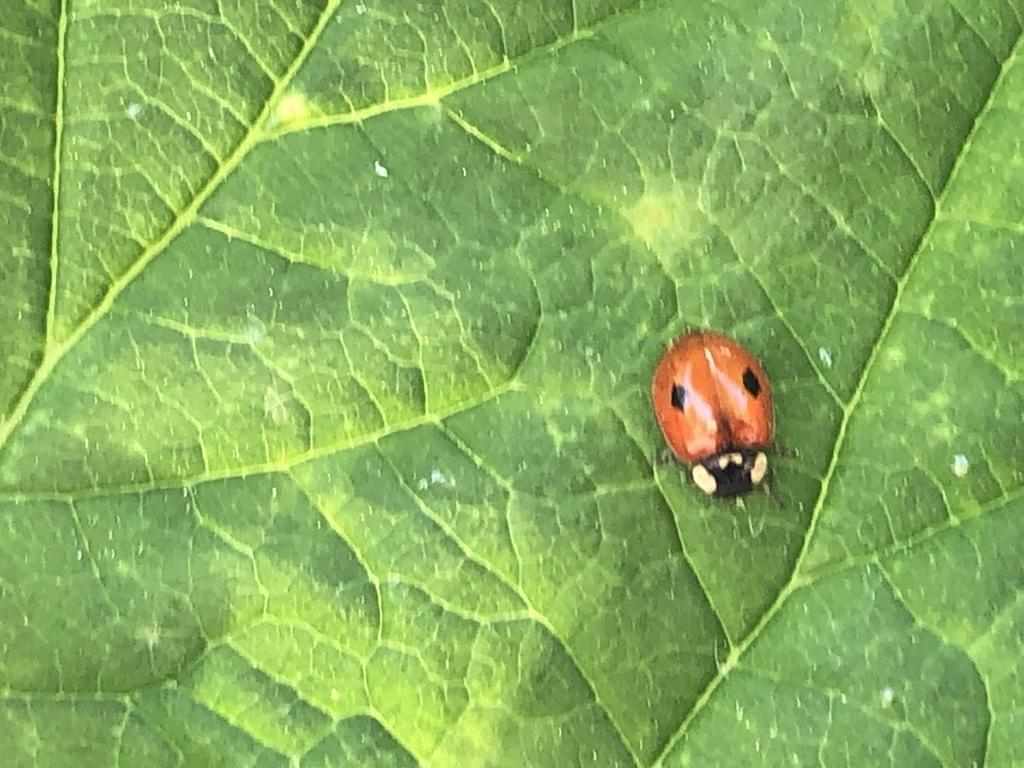ladybug: (647, 325, 805, 513)
